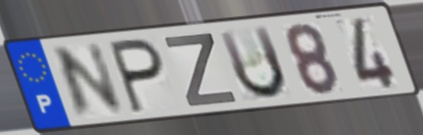4: (351, 14, 398, 91)
8: (282, 21, 343, 96)
N: (50, 40, 128, 123)
P: (106, 36, 167, 116)
U: (215, 23, 290, 103)
Z: (161, 31, 242, 110)
